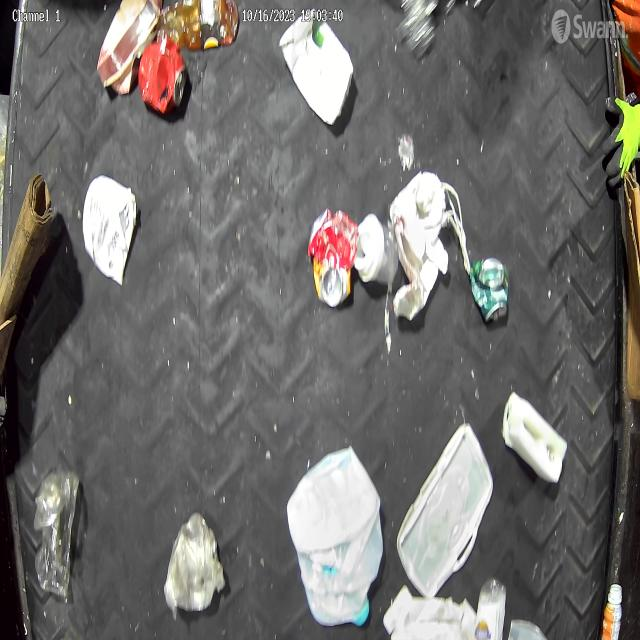can: (279, 12, 355, 126), (308, 206, 356, 309), (138, 39, 189, 118), (469, 257, 509, 324)
milk_jug: (286, 443, 383, 630)
